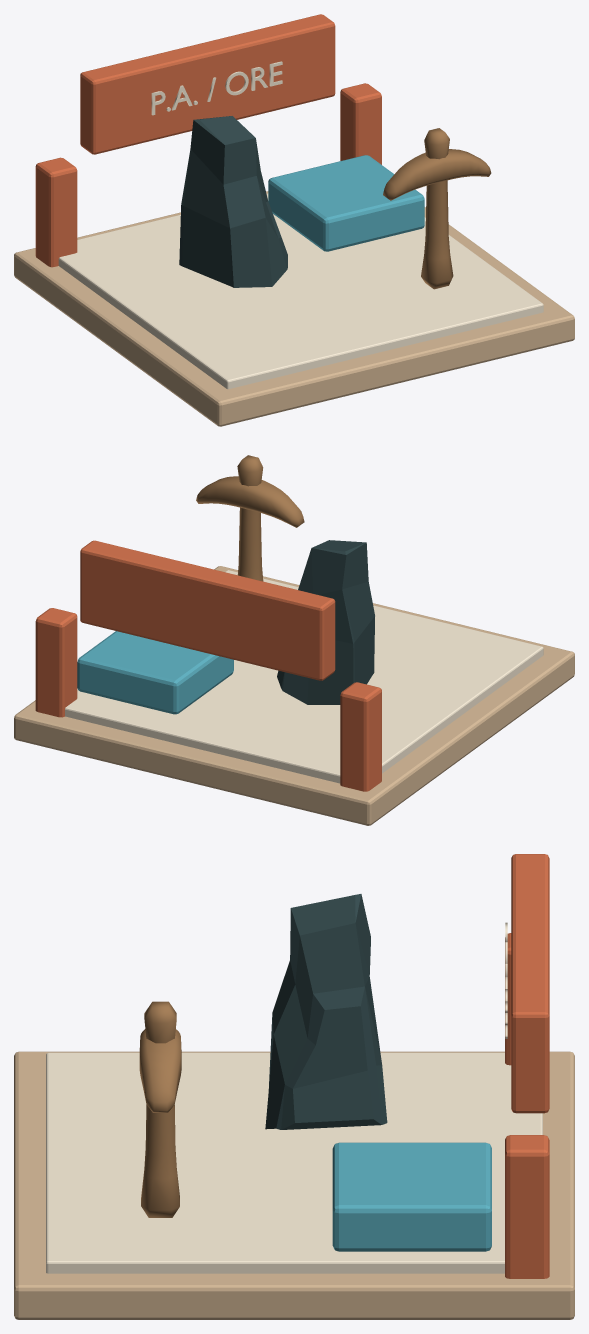
Rendered from PA_StarterWorksite_Ore.fbx.
The picture shows the model from 3 angles, top to bottom: view 1: azimuth 30°, elevation 25°; view 2: azimuth 150°, elevation 25°; view 3: azimuth 270°, elevation 25°; orthographic projection. The views are drawn at different scales.
Visible parts, largest first — view 1: PA_StarterWorksite_Ore; view 2: PA_StarterWorksite_Ore; view 3: PA_StarterWorksite_Ore.
Boxes of the visible parts, x1,y1,x2,y2 form: PA_StarterWorksite_Ore: [14, 14, 574, 426]; PA_StarterWorksite_Ore: [14, 455, 574, 825]; PA_StarterWorksite_Ore: [14, 854, 574, 1319].
Size of the model in its own units: 1.76 by 0.935 by 1.76.
